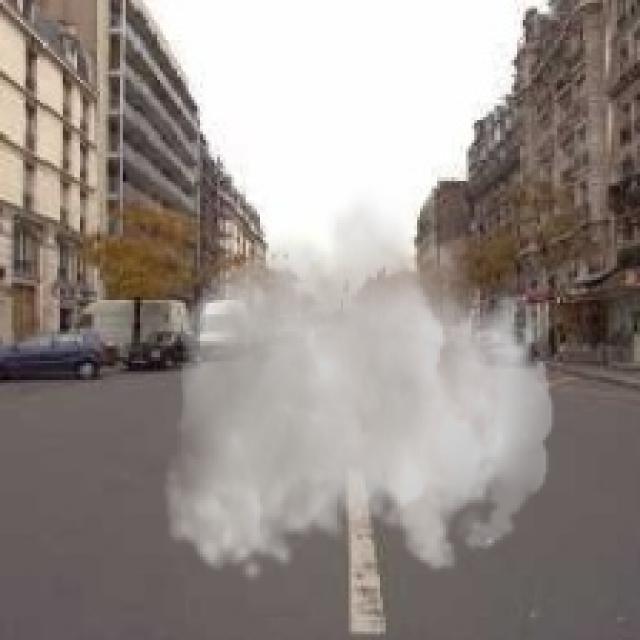Smoke: (162, 183, 554, 586)
